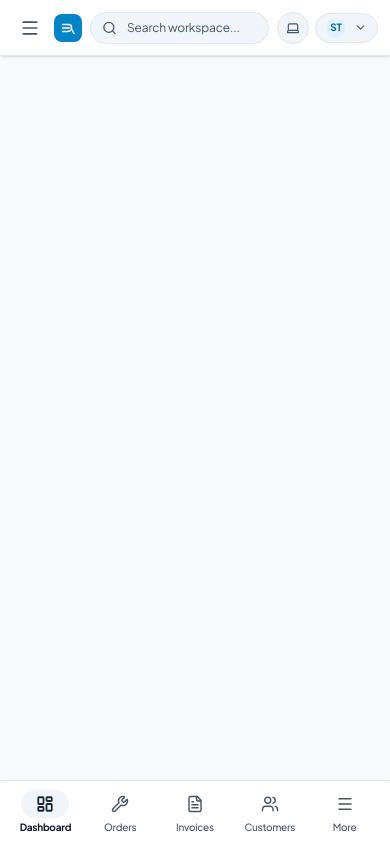
Test: AppShell Responsive Mobile Navigation › opens the full navigation drawer when "More" or hamburger menu is tapped
// Click "More" button in the bottom navigation bar
Step 1. Click the button "More" → (345, 812), box [307,786,382,839]
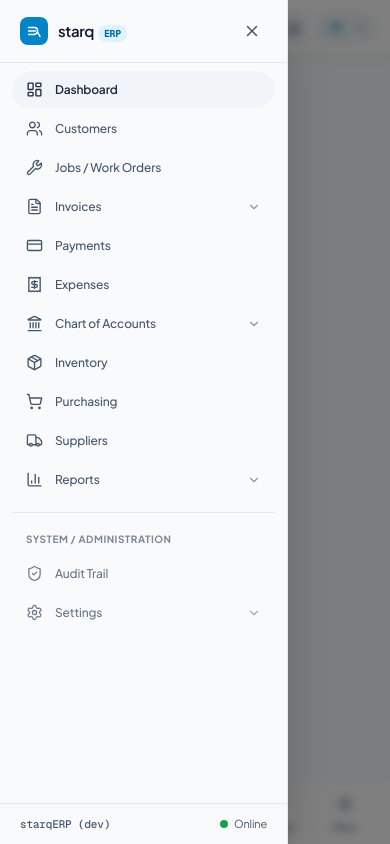
Expected: the dialog is shown
Expected: the link "Inventory" is shown, [26,354,107,371]
Expected: the link "Purchasing" is shown, [26,393,117,410]
// Close button dismisses the drawer
Step 2. Click the button named "Close menu" → (252, 31), box [237,16,267,46]
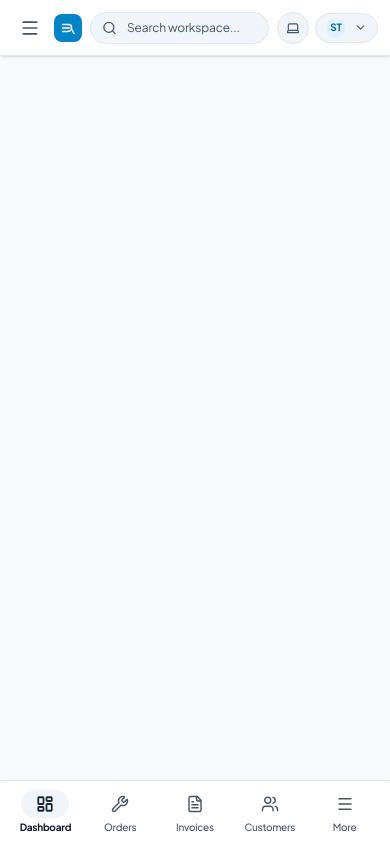
Expected: the dialog is gone
